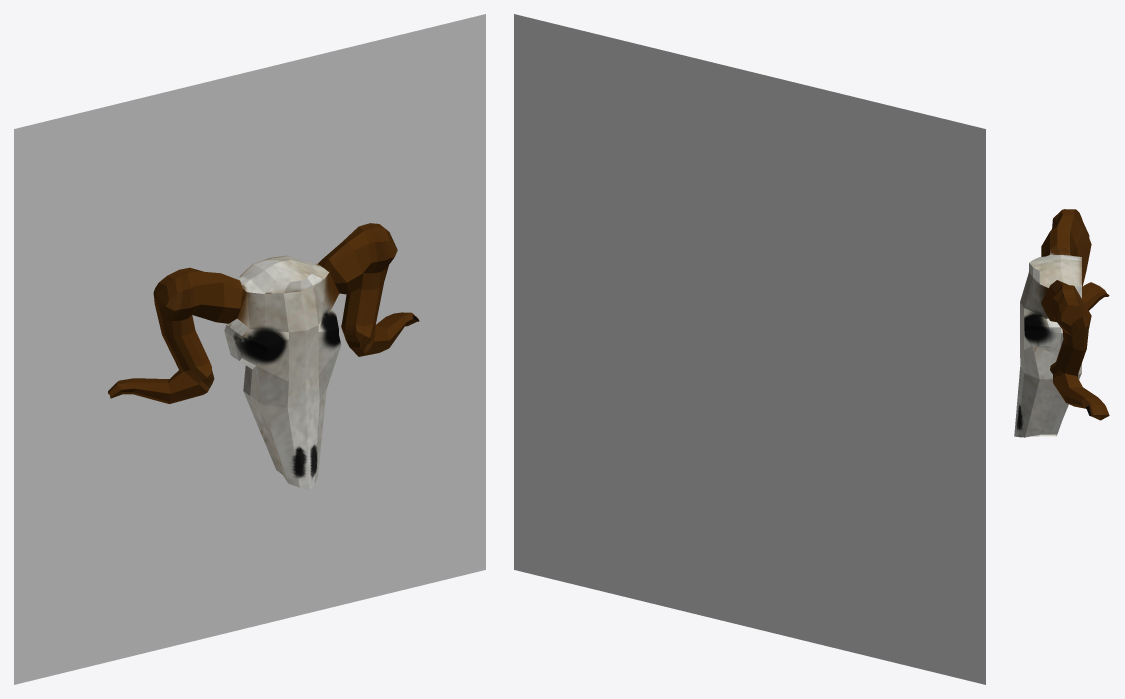
The model's file is GoatHead_Floating.fbx.
The picture shows the model from 3 angles, left to right: view 1: azimuth 30°, elevation 25°; view 2: azimuth 150°, elevation 25°; view 3: azimuth 270°, elevation 25°; orthographic projection. The views are drawn at different scales.
Parts seen in each view (by area): view 1: Magic_Circle, Skull; view 2: Magic_Circle; view 3: Skull.
Part boxes in pixels (<box>): Magic_Circle: <box>14,14,485,684</box>; Skull: <box>108,223,419,490</box>; Magic_Circle: <box>514,14,985,684</box>; Skull: <box>1014,209,1109,437</box>.
Size of the model in its own units: 779 by 877 by 162.
